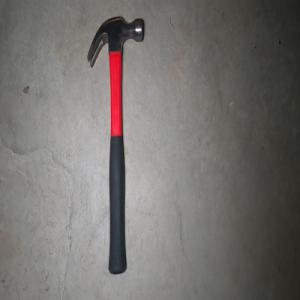Hammer: (86, 14, 144, 275)
